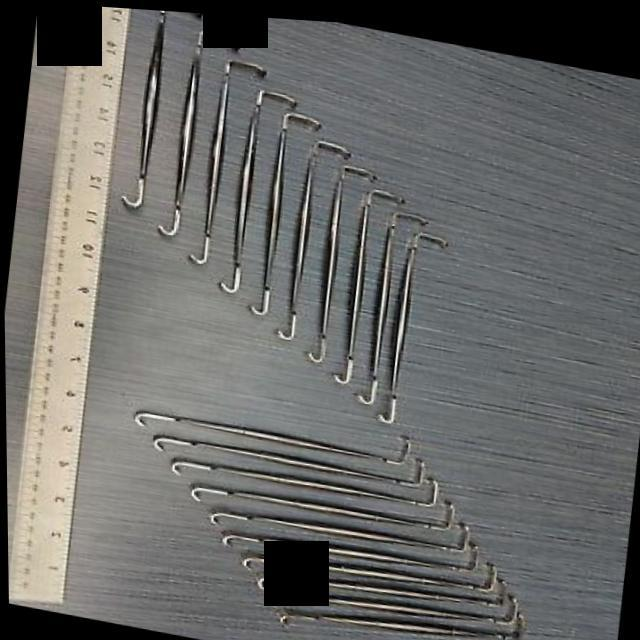Senn Retractor: (119, 375, 442, 494), (215, 470, 492, 608), (160, 436, 477, 546), (245, 502, 514, 630), (254, 536, 524, 640), (140, 14, 249, 249), (176, 32, 278, 274), (108, 6, 215, 226), (322, 156, 420, 394), (204, 68, 302, 306), (233, 98, 334, 326), (342, 180, 438, 414), (263, 116, 359, 350), (293, 148, 391, 372), (364, 208, 454, 424), (268, 582, 542, 640)
